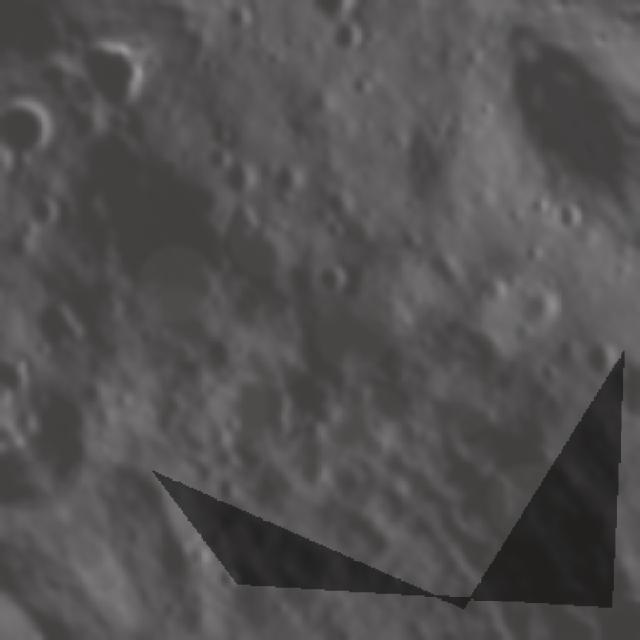crater: (188, 355, 324, 490), (12, 273, 102, 365), (434, 390, 512, 465), (247, 144, 319, 216), (456, 312, 518, 378), (413, 237, 475, 300), (208, 142, 270, 204), (290, 0, 376, 42), (318, 7, 377, 67), (571, 324, 631, 382), (301, 245, 357, 304), (200, 548, 254, 606), (196, 462, 250, 518), (546, 185, 600, 240), (312, 178, 366, 230), (15, 186, 66, 237), (0, 344, 40, 404), (385, 209, 432, 257), (525, 352, 569, 397), (389, 412, 431, 454), (514, 234, 555, 274), (532, 267, 562, 296), (202, 631, 256, 640), (0, 265, 9, 317), (386, 0, 439, 6), (0, 313, 5, 362)
